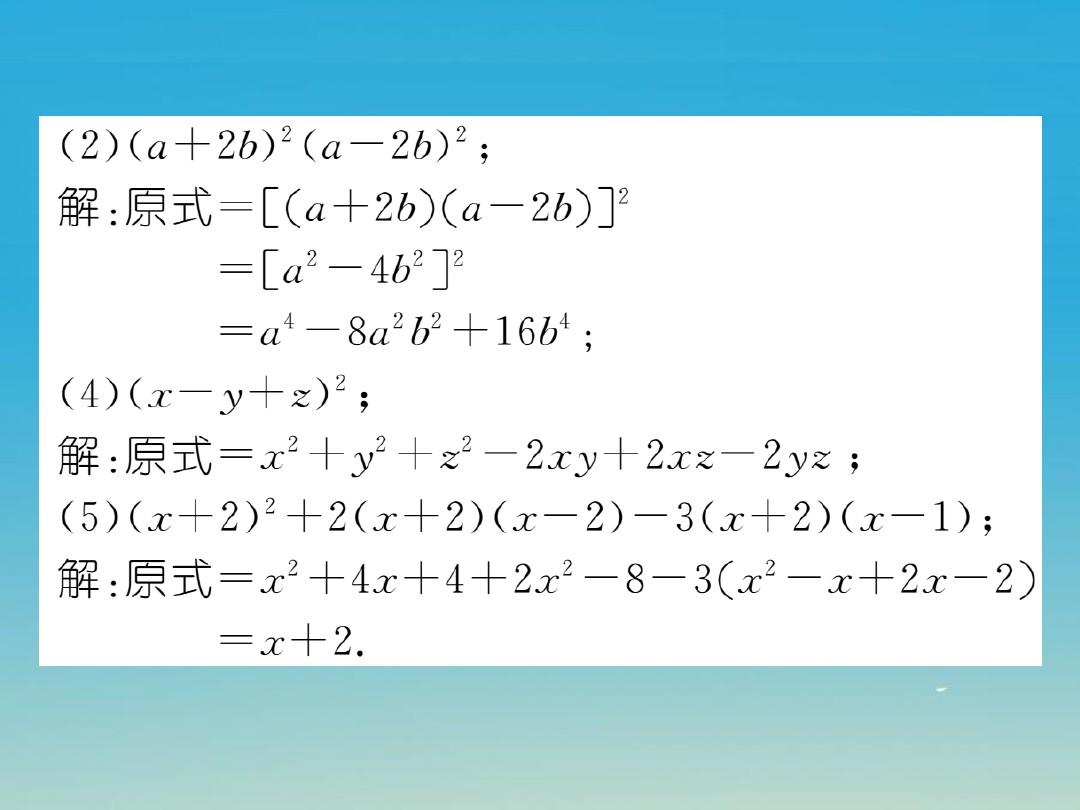square: (452, 119, 473, 148), (560, 553, 579, 579), (761, 556, 783, 576), (261, 494, 277, 520), (372, 432, 389, 456), (300, 247, 319, 268), (331, 369, 347, 393), (451, 245, 467, 268), (284, 432, 300, 455), (390, 306, 404, 332), (283, 559, 300, 579), (616, 185, 630, 207), (411, 246, 423, 267), (431, 310, 443, 331), (277, 126, 292, 142), (463, 431, 475, 451)
